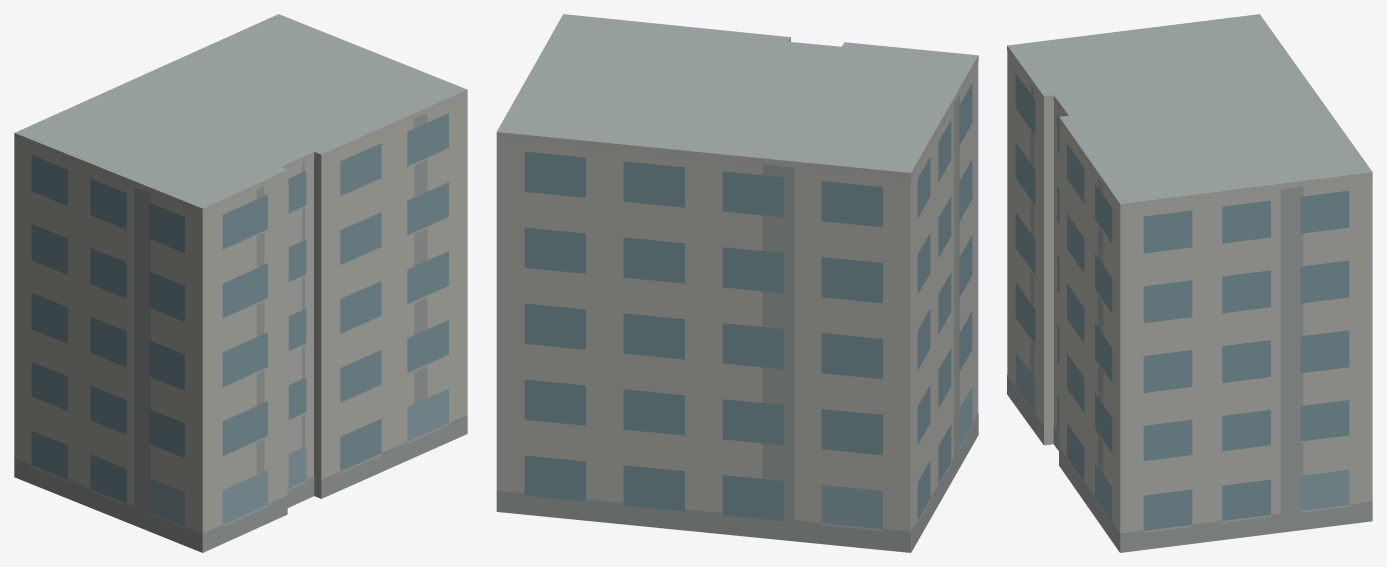
Rendered from survey-upis-32863153.glb.
3 views of the same model, side by side, from view 1: azimuth 30°, elevation 25°; view 2: azimuth 150°, elevation 25°; view 3: azimuth 270°, elevation 25° (orthographic). The views are drawn at different scales.
Parts seen in each view (by area): view 1: survey-upis-32863153.tmp; view 2: survey-upis-32863153.tmp; view 3: survey-upis-32863153.tmp.
Boxes of the visible parts, <box> form: survey-upis-32863153.tmp: <box>14,14,467,552</box>; survey-upis-32863153.tmp: <box>496,14,978,552</box>; survey-upis-32863153.tmp: <box>1007,14,1372,552</box>.
Bounding box in the file's own units: 17.82 × 15.25 × 14.49.
